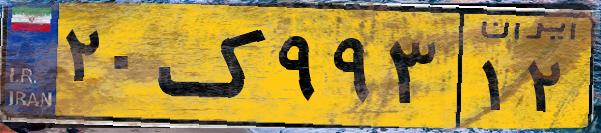0: (110, 28, 158, 98)
1: (475, 38, 525, 113)
2: (57, 26, 110, 100), (525, 38, 570, 115)
3: (385, 28, 445, 110)
9: (270, 28, 330, 110), (330, 28, 385, 110)
ک: (158, 12, 270, 120)
